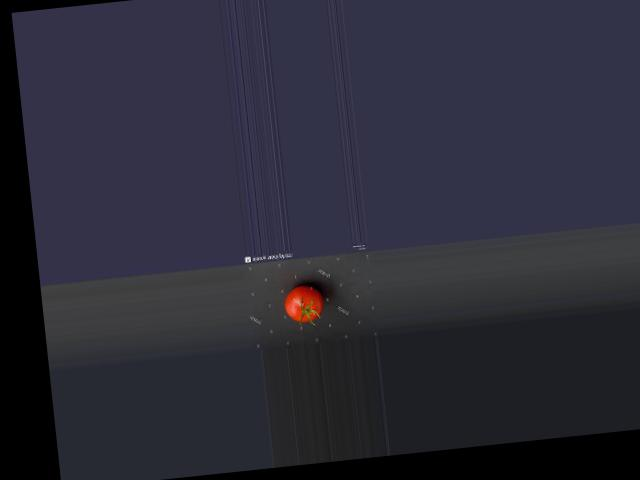tomato: (283, 284, 325, 323)
